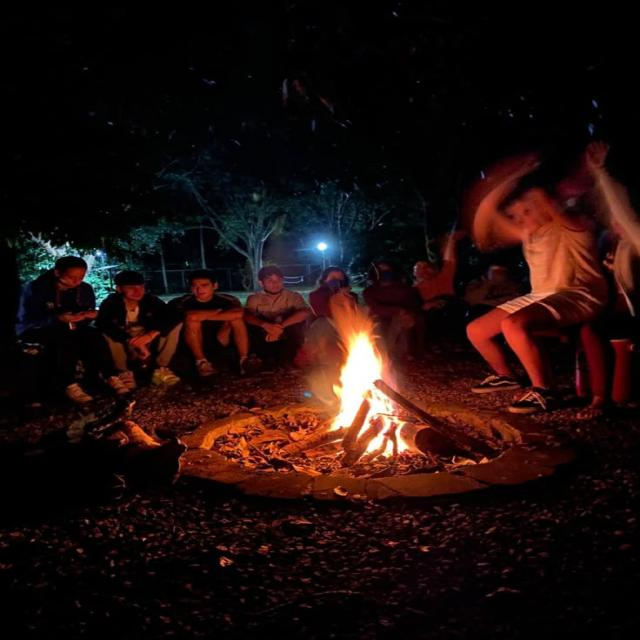fire: (328, 287, 409, 458)
